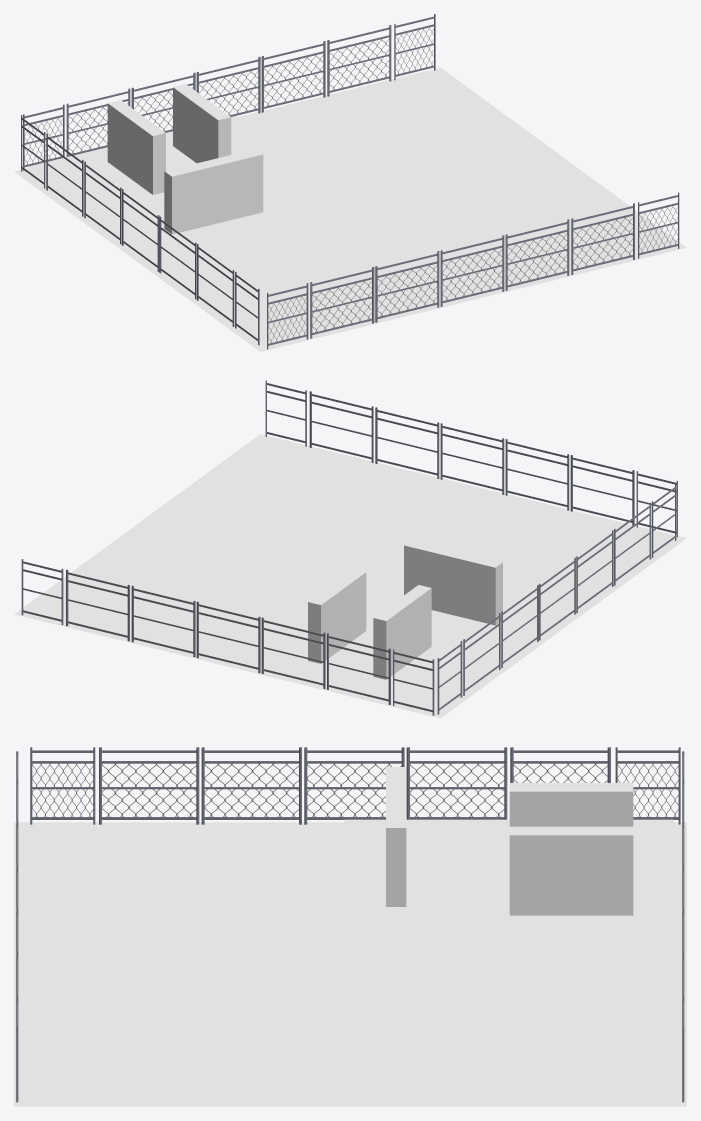
Rendered from dartplatform.glb.
The picture shows the model from 3 angles, top to bottom: view 1: azimuth 30°, elevation 25°; view 2: azimuth 150°, elevation 25°; view 3: azimuth 270°, elevation 25°; orthographic projection. The views are drawn at different scales.
Parts seen in each view (by area): view 1: platform, Plane, MetalFence.010, MetalFence.001, MetalFence.011, MetalFence.002, MetalFence.007, MetalFence.008, MetalFence.009, MetalFence, MetalFence.012, MetalFence.006 (+9 smaller); view 2: platform, Plane, MetalFence.010, MetalFence, MetalFence.003, MetalFence.001, MetalFence.007, MetalFence.009, MetalFence.008, MetalFence.002, MetalFence.011, MetalFence.004 (+10 smaller); view 3: platform, Plane, MetalFence.015, MetalFence.017, MetalFence.018, MetalFence.014, MetalFence.019, MetalFence.020, MetalFence.016.
Boxes of the visible parts, left/top/right/bottom form: platform: left=14, top=67, right=686, bottom=351; Plane: left=27, top=84, right=356, bottom=254; MetalFence.010: left=375, top=251, right=439, bottom=322; MetalFence.001: left=261, top=41, right=325, bottom=112; MetalFence.011: left=310, top=267, right=374, bottom=338; MetalFence.002: left=327, top=25, right=391, bottom=96; MetalFence.007: left=440, top=235, right=504, bottom=306; MetalFence.008: left=505, top=219, right=569, bottom=290; MetalFence.009: left=571, top=203, right=634, bottom=274; MetalFence: left=196, top=56, right=260, bottom=116; MetalFence.012: left=267, top=283, right=308, bottom=349; MetalFence.006: left=394, top=14, right=435, bottom=80; platform: left=14, top=434, right=686, bottom=718; Plane: left=228, top=540, right=556, bottom=706; MetalFence.010: left=505, top=439, right=569, bottom=510; MetalFence: left=196, top=601, right=260, bottom=673; MetalFence.003: left=261, top=617, right=325, bottom=689; MetalFence.001: left=131, top=585, right=195, bottom=657; MetalFence.007: left=440, top=423, right=504, bottom=494; MetalFence.009: left=309, top=391, right=373, bottom=462; MetalFence.008: left=375, top=407, right=439, bottom=478; MetalFence.002: left=66, top=569, right=129, bottom=641; MetalFence.011: left=570, top=455, right=634, bottom=525; MetalFence.004: left=327, top=633, right=390, bottom=704; platform: left=14, top=822, right=686, bottom=1106; Plane: left=344, top=767, right=674, bottom=958; MetalFence.015: left=406, top=747, right=507, bottom=819; MetalFence.017: left=201, top=747, right=301, bottom=824; MetalFence.018: left=99, top=747, right=199, bottom=824; MetalFence.014: left=304, top=747, right=404, bottom=824; MetalFence.019: left=30, top=747, right=95, bottom=824; MetalFence.020: left=615, top=747, right=680, bottom=824; MetalFence.016: left=510, top=747, right=610, bottom=782.
Size of the model in its own units: 39.27 by 5.73 by 39.27.
Materials: 4 (1 with a texture image).
